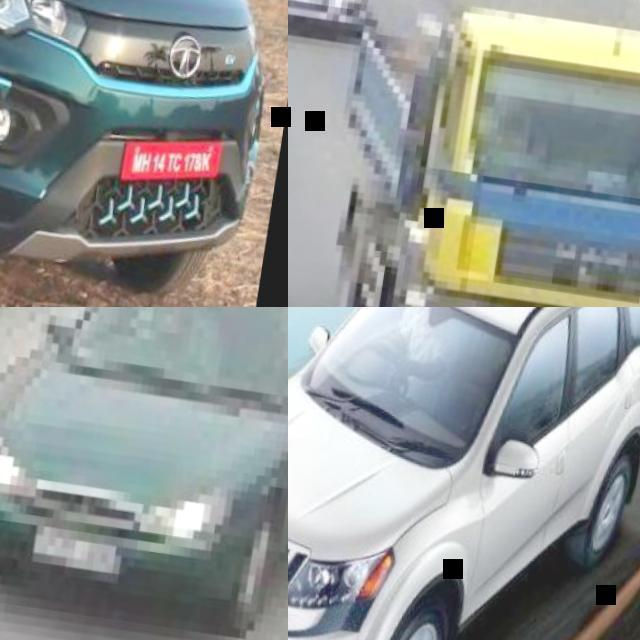car: (287, 303, 639, 639), (0, 0, 266, 263)
